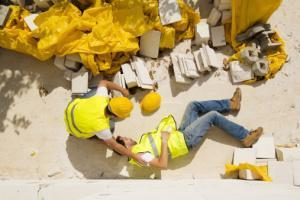vest: (127, 113, 190, 167), (65, 93, 110, 139)
